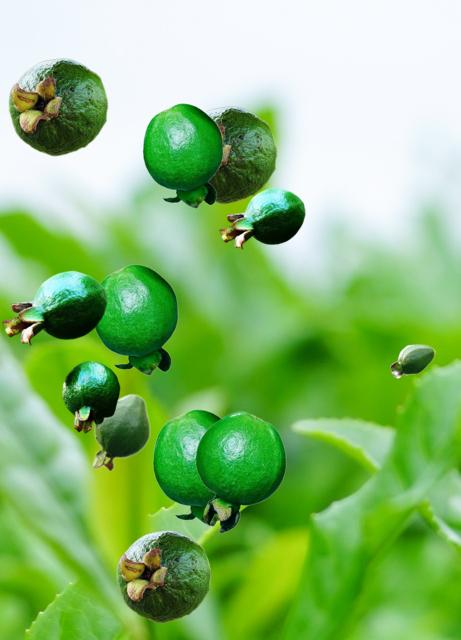guava: (195, 411, 285, 532), (8, 58, 107, 155), (94, 264, 177, 374), (116, 530, 210, 622), (142, 103, 222, 207), (152, 409, 220, 525), (2, 270, 106, 344), (205, 106, 276, 203), (219, 187, 304, 248), (92, 393, 149, 471), (62, 360, 119, 432), (390, 344, 434, 377)
